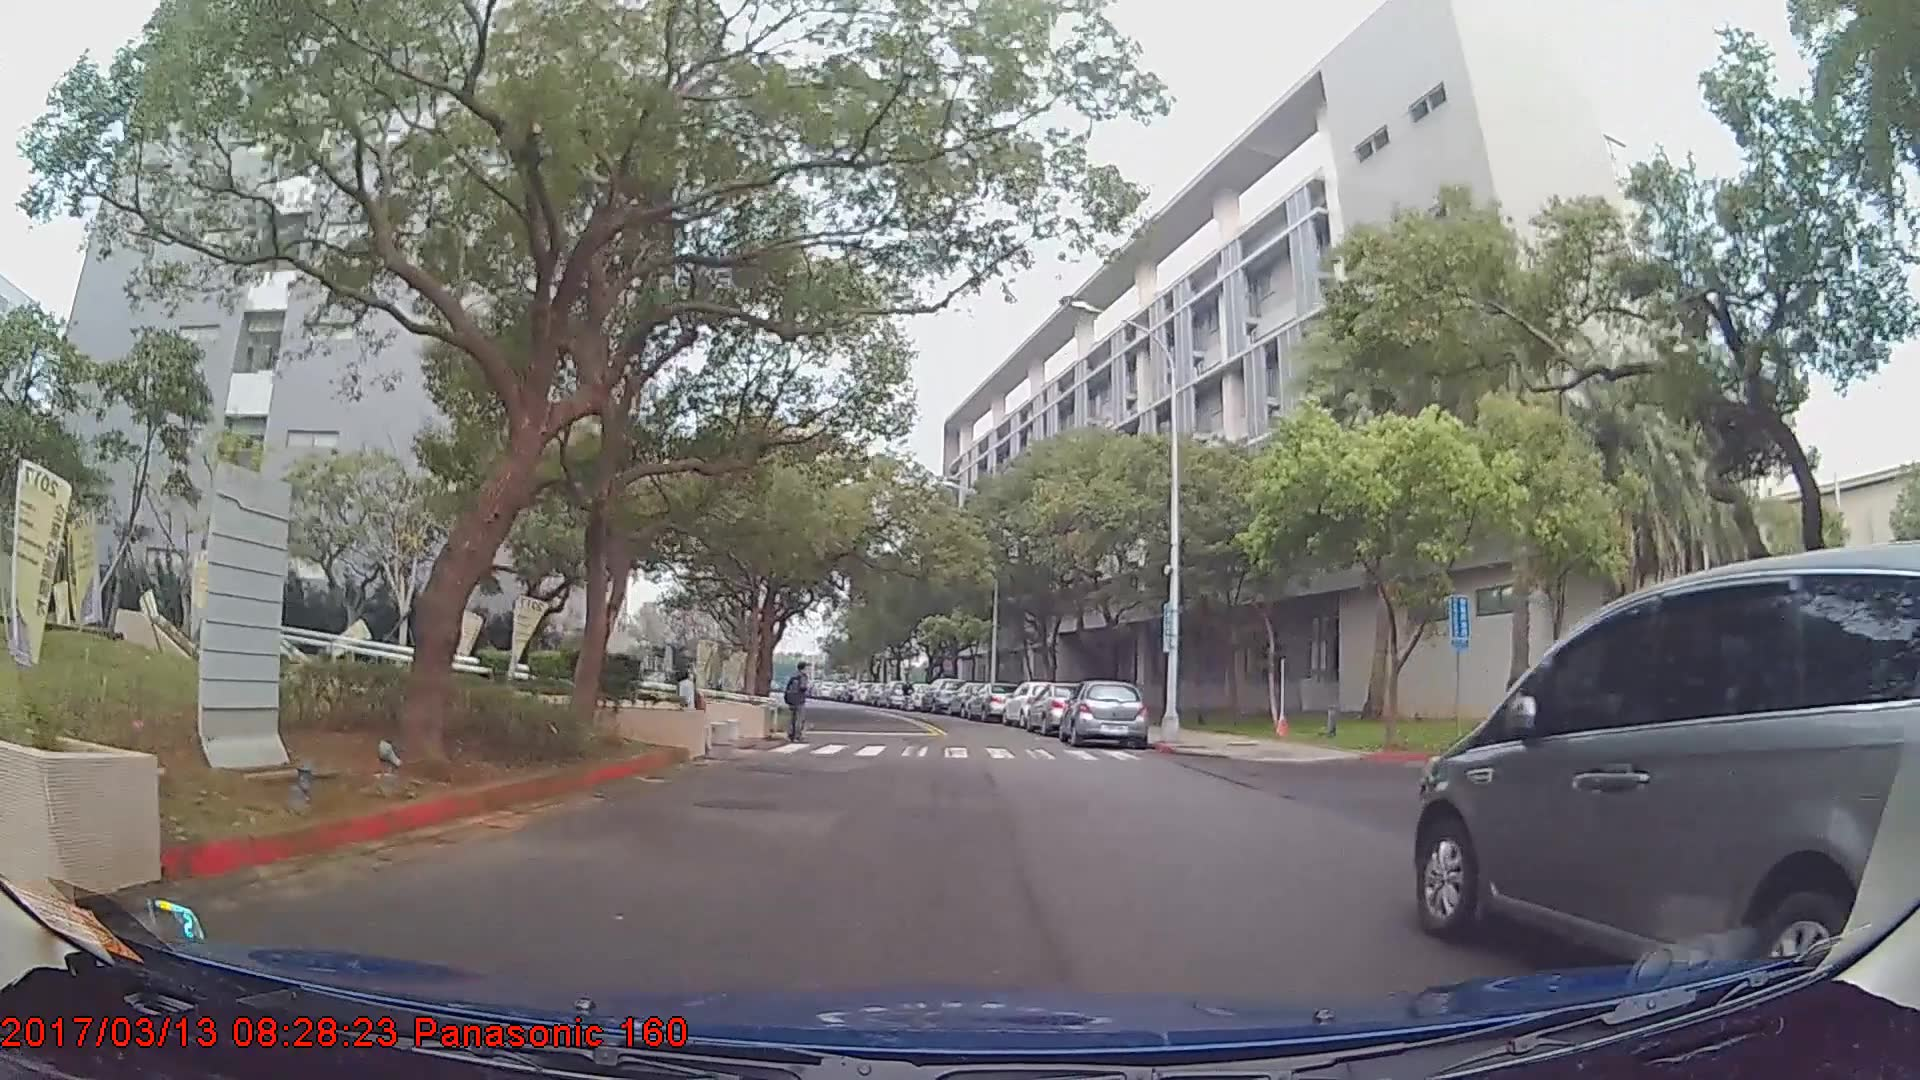pedestrian: (668, 670, 707, 754), (784, 661, 814, 748)
vehicle: (1412, 546, 1920, 986), (1062, 679, 1146, 749), (1021, 680, 1102, 734), (997, 678, 1065, 732), (964, 682, 1013, 720), (920, 677, 964, 714)
